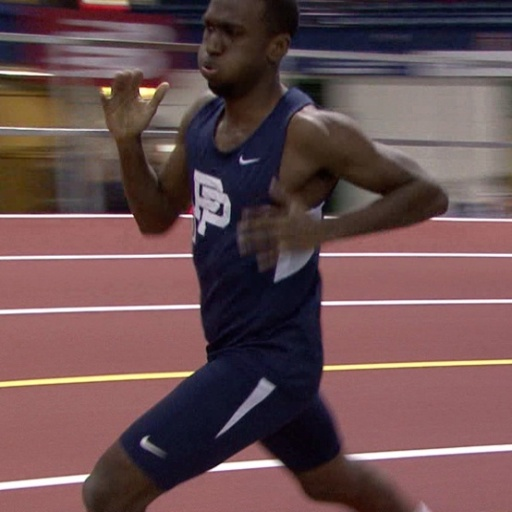hand: (236, 177, 314, 268), (92, 64, 159, 138)
